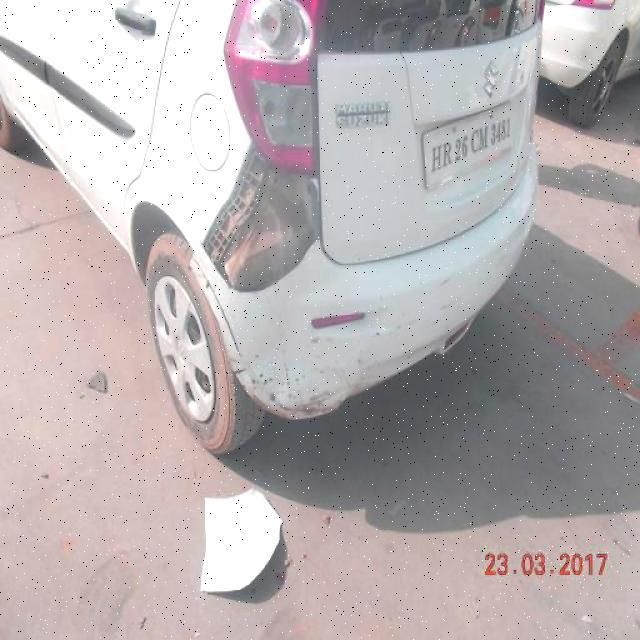car damage: (198, 145, 320, 293), (229, 358, 347, 422)
